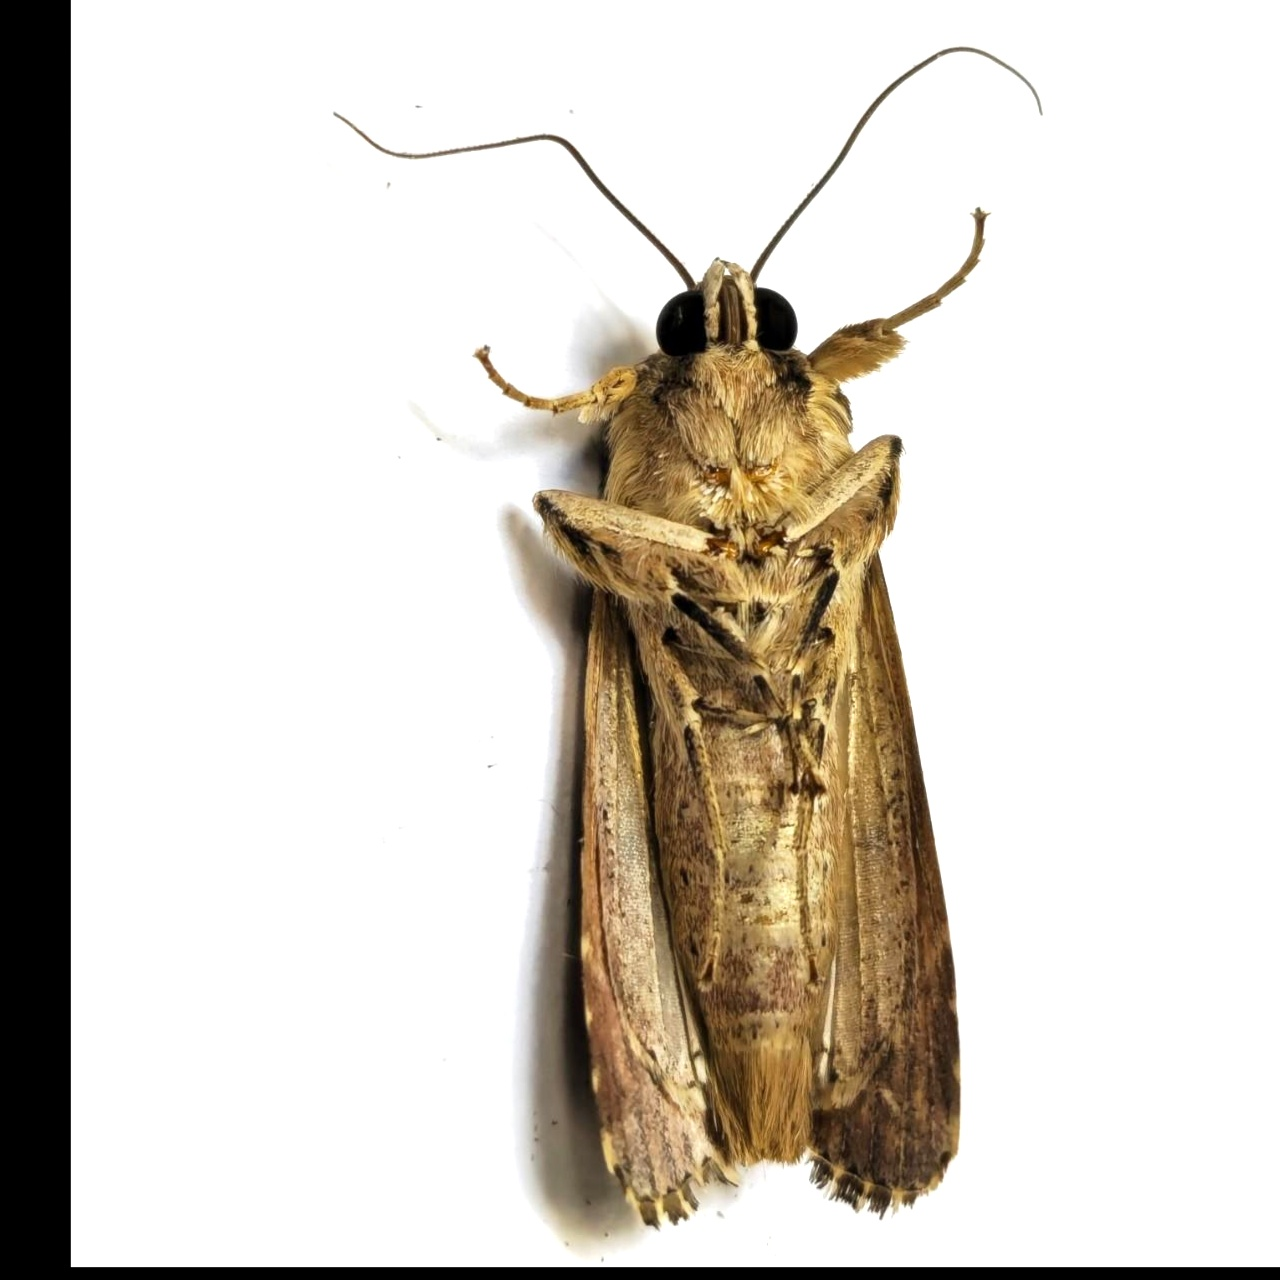Spodoptera litura: (331, 46, 1042, 1230)
